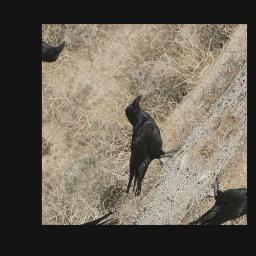Crow: (83, 91, 195, 203)
